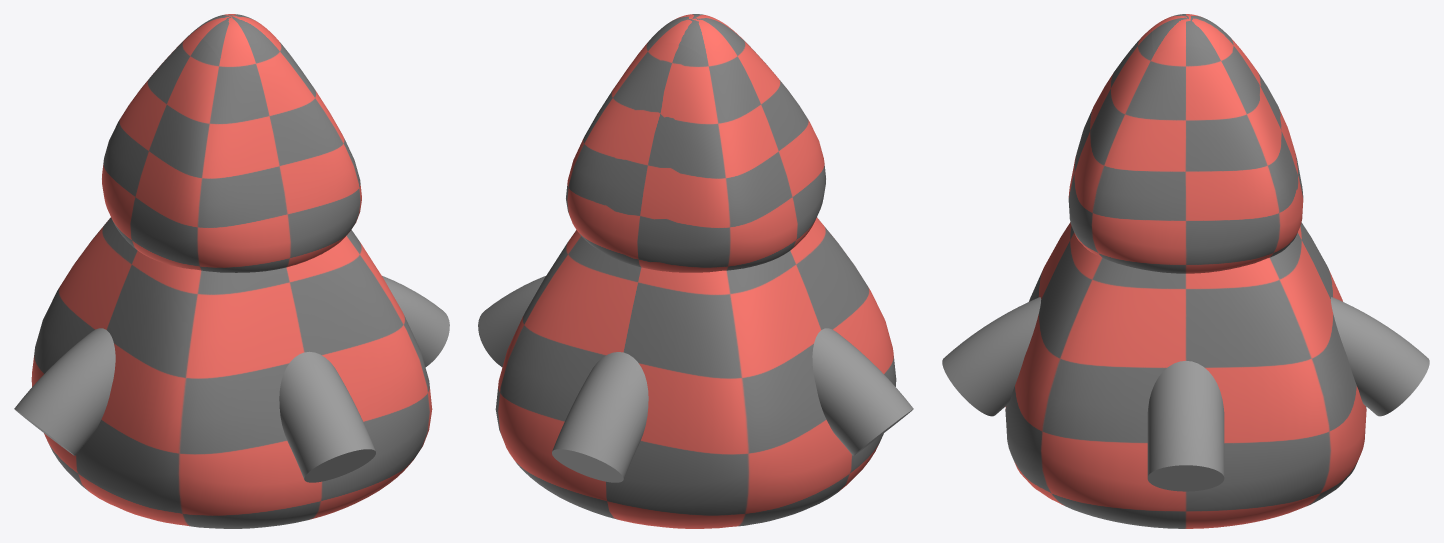
The model's file is Body(Pyramidal)+Colour(More_Red)+Pattern(Checkered)+Arm_Angle(Bent_Down)+Hat(Pyramidal).fbx.
3 renders of one model, left to right at view 1: azimuth 30°, elevation 25°; view 2: azimuth 150°, elevation 25°; view 3: azimuth 270°, elevation 25°, orthographic.
Parts seen in each view (by area): view 1: Body(Pyramidal)+Colour(More_Red)+Pattern(Checkered)+Arm_Angl (×5); view 2: Body(Pyramidal)+Colour(More_Red)+Pattern(Checkered)+Arm_Angl (×5); view 3: Body(Pyramidal)+Colour(More_Red)+Pattern(Checkered)+Arm_Angl (×5).
Part boxes in pixels (left/top/right/bottom): Body(Pyramidal)+Colour(More_Red)+Pattern(Checkered)+Arm_Angl (×5): left=14, top=14, right=449, bottom=528; Body(Pyramidal)+Colour(More_Red)+Pattern(Checkered)+Arm_Angl (×5): left=478, top=14, right=913, bottom=528; Body(Pyramidal)+Colour(More_Red)+Pattern(Checkered)+Arm_Angl (×5): left=942, top=14, right=1429, bottom=528.
Bounding box in the file's own units: 50.67 × 53 × 50.67.
Materials: 2 (1 with a texture image).
